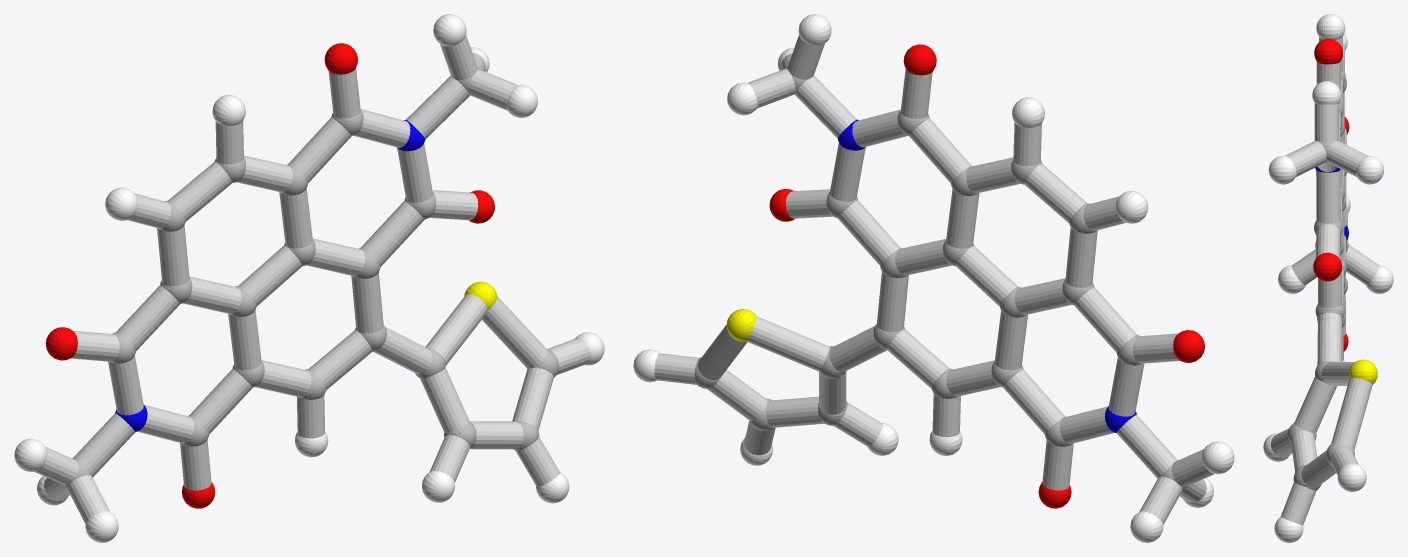
File: Dimethyl_Naphthalene_Dicarboximide_Phi_5_Theta_150_Thiophene.glb
3 renders of one model, left to right at view 1: azimuth 30°, elevation 25°; view 2: azimuth 150°, elevation 25°; view 3: azimuth 270°, elevation 25°, orthographic. The views are drawn at different scales.
Parts seen in each view (by area): view 1: grp14119, grp7241, grp1, grp12309, grp11585; view 2: grp14119, grp7241, grp1, grp12309, grp13757, grp11585; view 3: grp14119, grp7241, grp1, grp12309, grp13757.
Part boxes in pixels (x1,y1,x2,y2): grp14119: (34, 35, 590, 523); grp7241: (14, 14, 604, 542); grp1: (62, 66, 559, 489); grp12309: (45, 43, 494, 508); grp11585: (115, 120, 425, 431); grp14119: (654, 35, 1214, 524); grp7241: (633, 14, 1234, 542); grp1: (694, 66, 1187, 491); grp12309: (769, 44, 1204, 508); grp13757: (726, 309, 756, 341); grp11585: (838, 119, 1136, 432); grp14119: (1270, 36, 1379, 525); grp7241: (1263, 14, 1393, 542); grp1: (1287, 70, 1354, 490); grp12309: (1313, 39, 1349, 351); grp13757: (1349, 359, 1377, 384).
Size of the model in its own units: 12.32 by 9.7 by 2.69.
